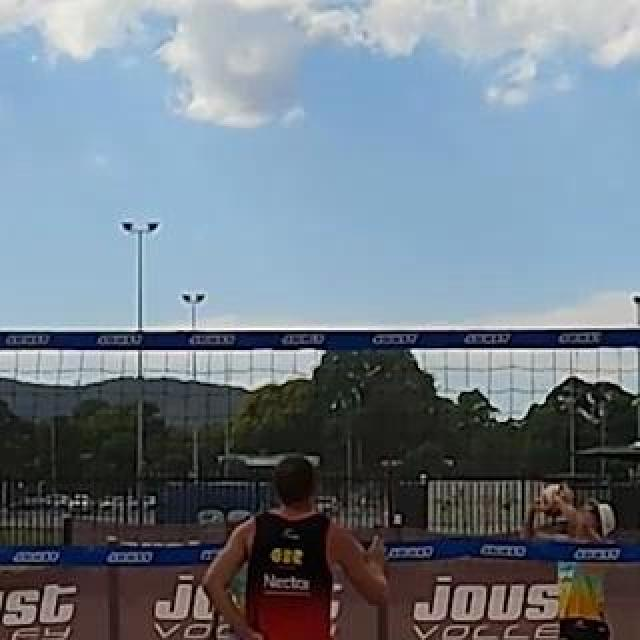volleyball: (540, 482, 574, 516)
